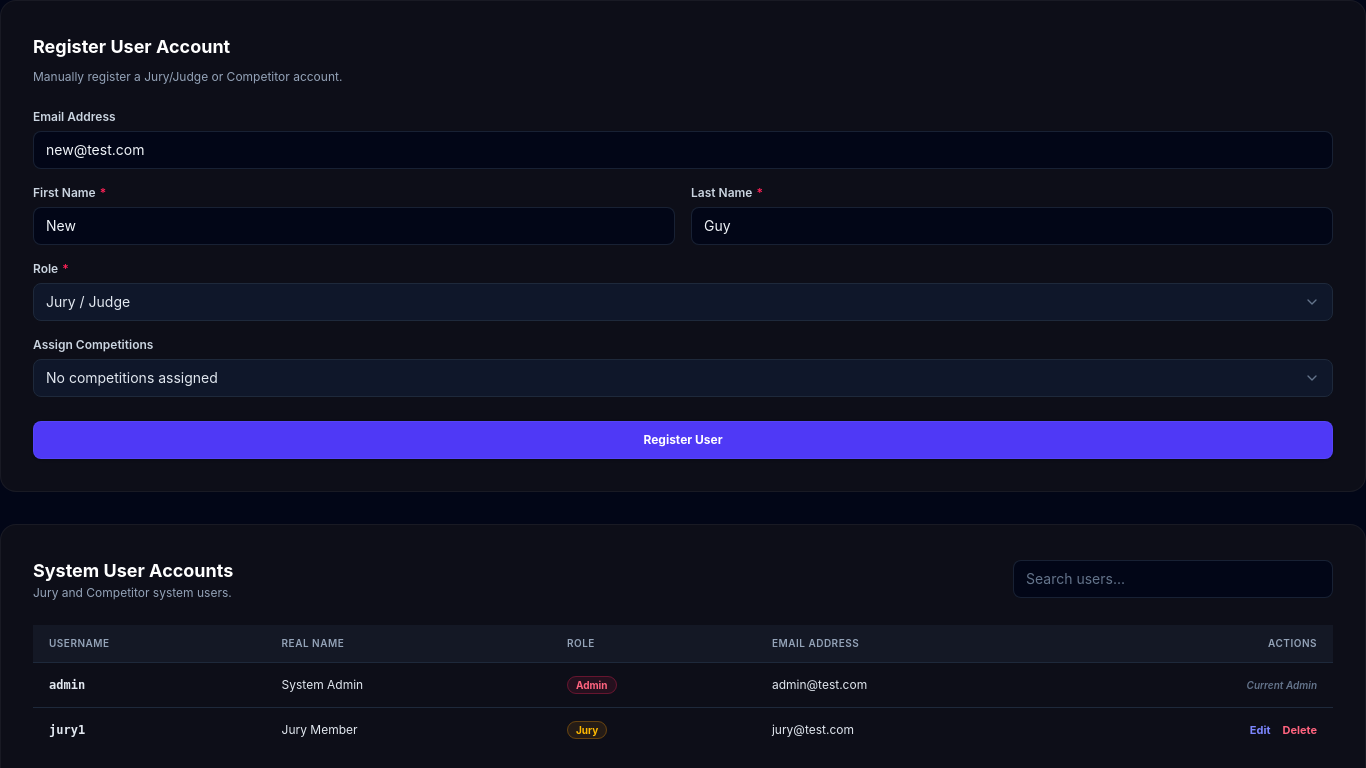
UserManager – actions › opens edit form with user data when Edit is clicked
Click the button "Edit" at (1260, 731), box left=1250, top=723, right=1270, bottom=738
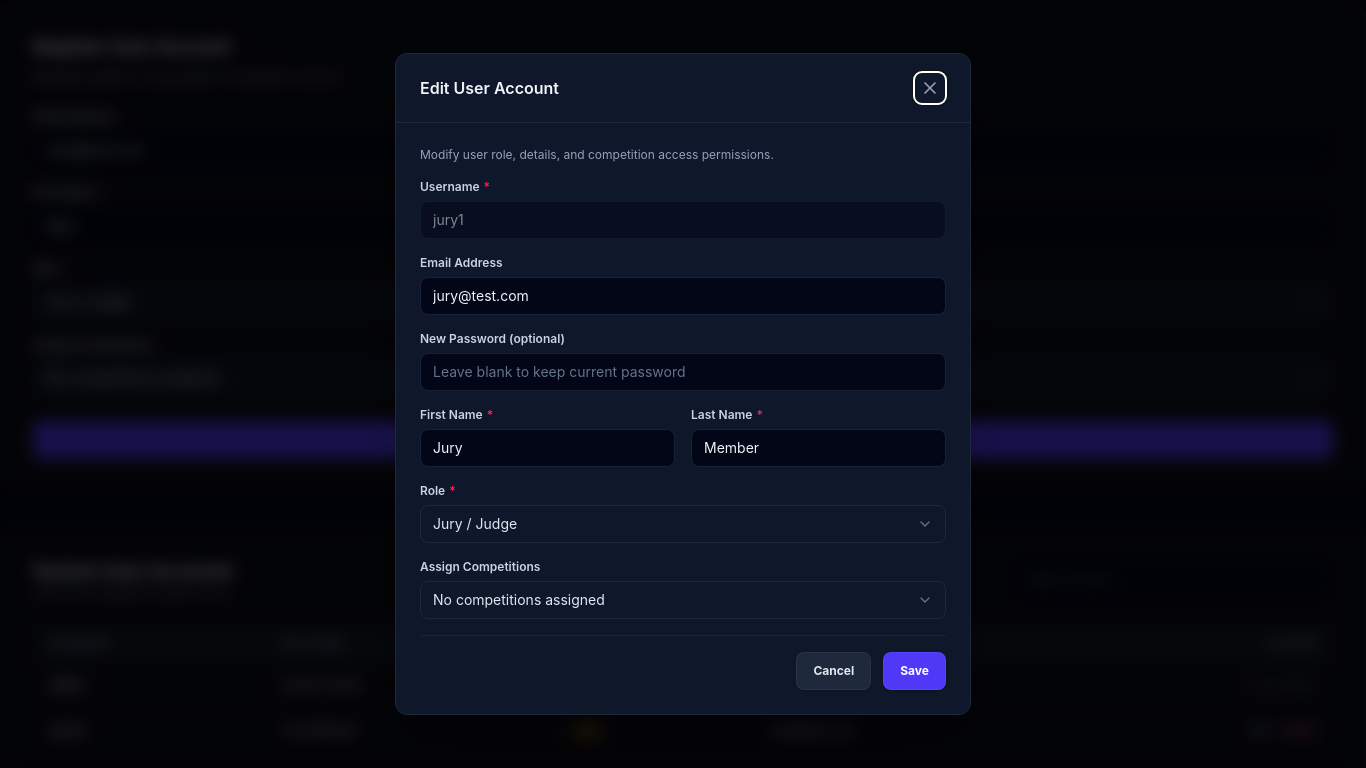
Result: the heading "Edit User Account" is shown at left=420, top=76, right=559, bottom=100
Result: the field showing "jury1" is shown at left=420, top=201, right=946, bottom=239
Result: the field showing "Jury" is shown at left=420, top=429, right=675, bottom=467
